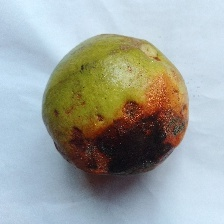guava: (22, 35, 177, 175)
